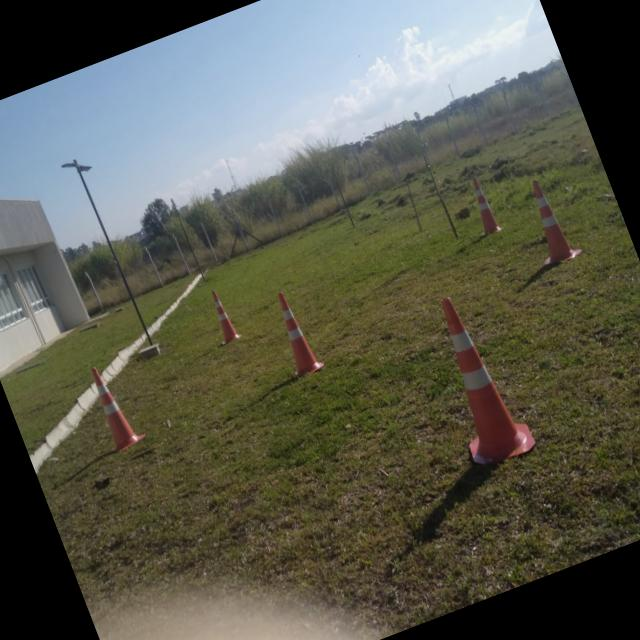cone: (407, 278, 543, 478), (76, 349, 152, 459), (512, 164, 588, 274), (256, 275, 328, 384), (456, 166, 508, 240), (194, 279, 244, 349)
